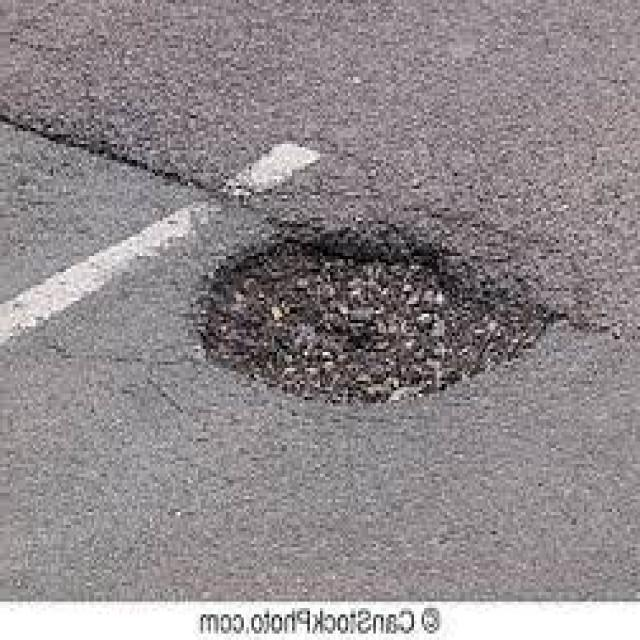Pothole: (193, 214, 569, 410)
